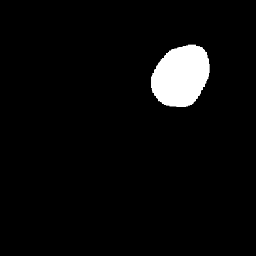mass: (157, 47, 217, 96)
